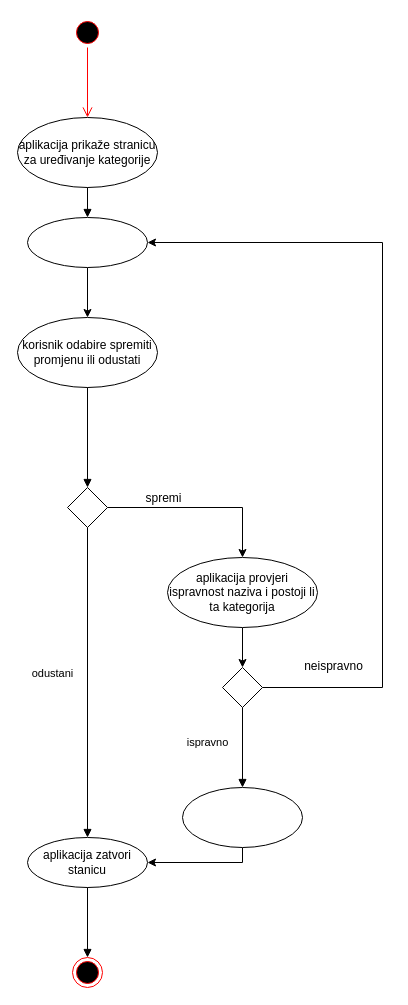
This 408x1005 diagram has some shape labels left out. The centre of each missing label's shape, as x and y in pixels:
aplikacija promijeni kategoriju: point (242, 817)
korisnik unese novi naziv: point (87, 242)
